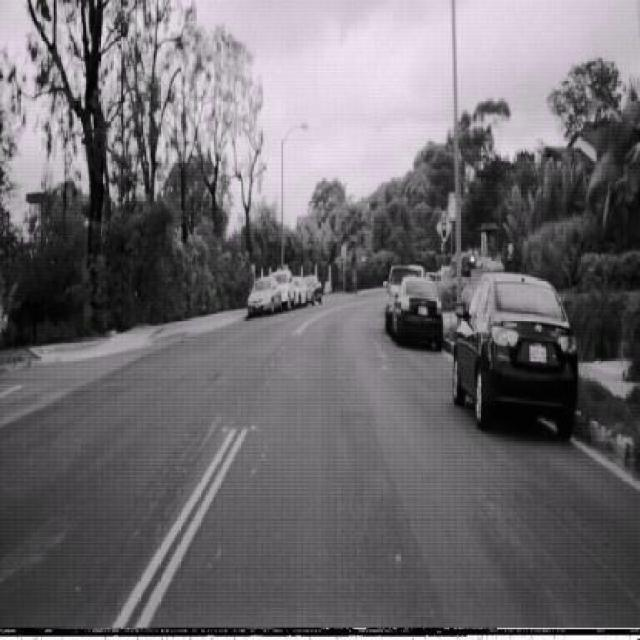signalAhead: (435, 209, 453, 245)
